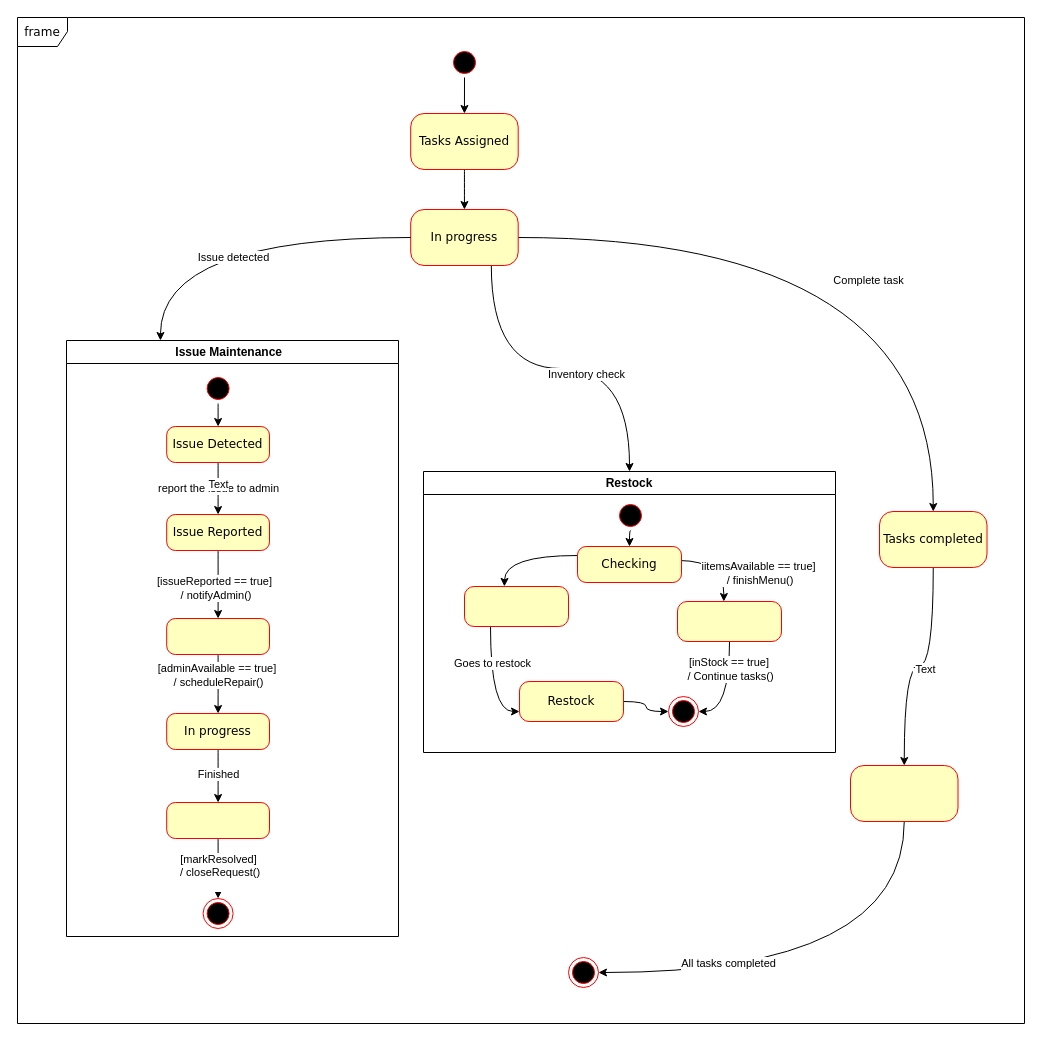
Image size: 1042x1041. Some labels were removed from this diagram. The shapes that lost their labels are listed below. From the top down, each one's centre as x and y in pixels, then its label:
At point 516,606: "Items out of stock".
At point 729,621: "In stock".
At point 218,636: "Admin Notified".
At point 904,793: "Update system".
At point 218,820: "Issue Resolved".
